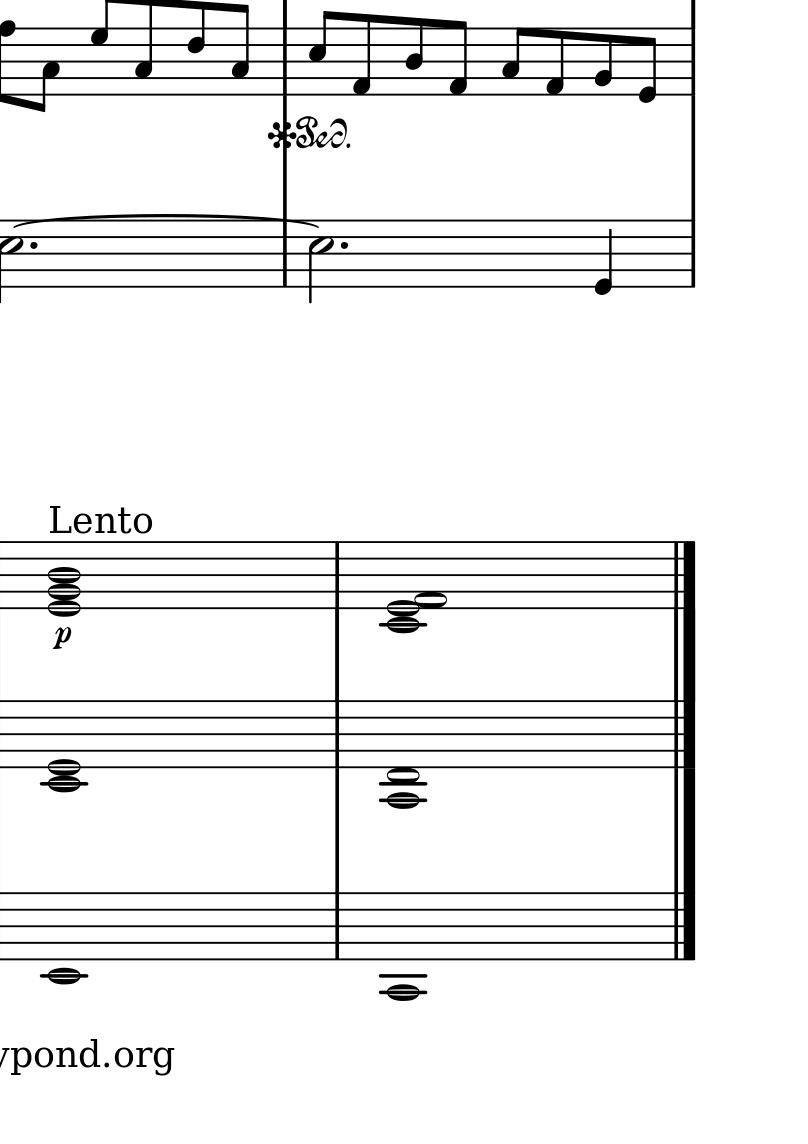1_-2: (46, 891, 82, 987)
1_-2_0: (40, 696, 87, 793)
1_-4: (385, 889, 423, 1004)
1_-4_-1: (377, 698, 429, 811)
1_th: (377, 539, 447, 634), (48, 539, 81, 618)
2_5: (307, 219, 334, 306)
4_0: (591, 218, 613, 297)
8_0: (639, 26, 658, 104)
8_1: (352, 13, 373, 99), (447, 19, 469, 96), (545, 27, 564, 97)
8_2: (594, 26, 614, 97)
8_3: (34, 27, 61, 113), (501, 26, 527, 97), (232, 3, 250, 97)
8_4: (404, 17, 425, 98)
8_5: (308, 10, 333, 96)
Final_barline: (669, 540, 701, 609), (667, 700, 699, 769), (664, 892, 694, 962)
Single_barline: (326, 701, 347, 767), (327, 542, 347, 608), (681, 221, 701, 287), (328, 893, 346, 960), (276, 222, 294, 288), (683, 29, 700, 96), (277, 28, 293, 95)
Slur: (13, 213, 319, 230)
dot: (337, 238, 351, 253), (28, 239, 40, 253)
